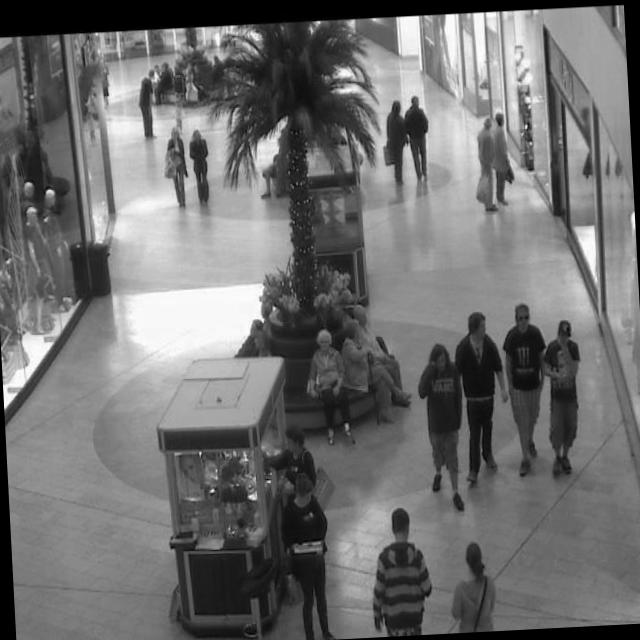person: (454, 302, 550, 484), (272, 466, 333, 640), (451, 309, 510, 479), (416, 344, 472, 506), (369, 508, 438, 638), (501, 304, 552, 474), (338, 308, 412, 422), (539, 320, 587, 476), (441, 544, 502, 634), (303, 329, 348, 447), (476, 115, 512, 209), (278, 426, 318, 508), (491, 105, 516, 222), (402, 98, 433, 184), (162, 128, 191, 208), (382, 100, 410, 180), (188, 129, 211, 198), (136, 72, 156, 138), (156, 64, 174, 102)
